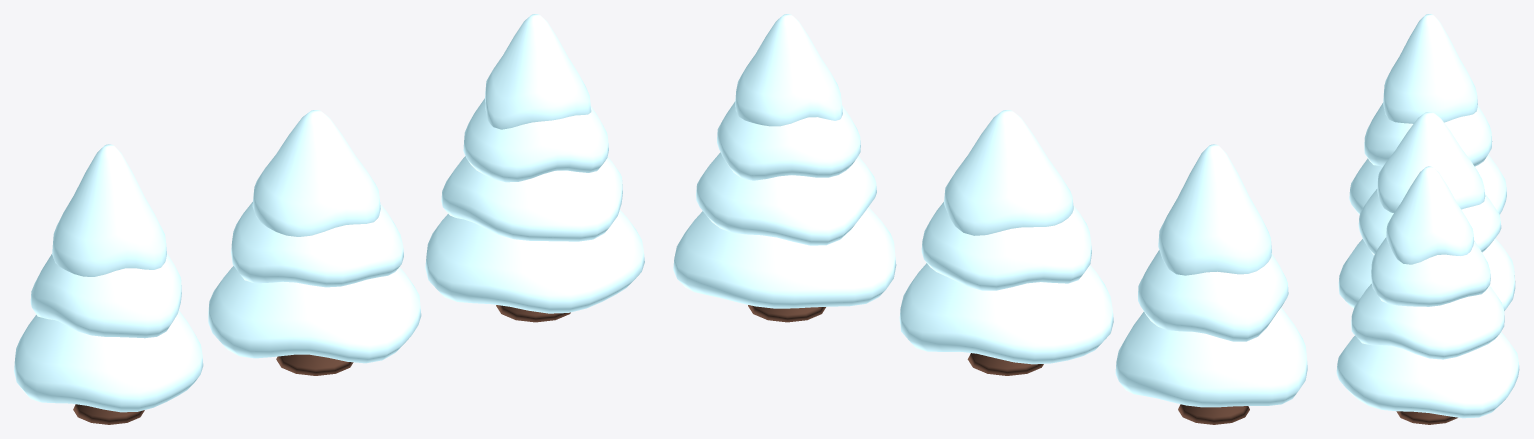
File: trees.glb
3 renders of one model, left to right at view 1: azimuth 30°, elevation 25°; view 2: azimuth 150°, elevation 25°; view 3: azimuth 270°, elevation 25°, orthographic. The views are drawn at different scales.
Visible parts, largest first — view 1: Tree_C, Tree_B, Tree_A; view 2: Tree_C, Tree_B, Tree_A; view 3: Tree_C, Tree_A, Tree_B.
Part boxes in pixels (x1,y1,x2,y2): Tree_C: (425, 14, 644, 322); Tree_B: (208, 110, 421, 375); Tree_A: (14, 144, 203, 424); Tree_C: (673, 14, 896, 322); Tree_B: (899, 110, 1113, 375); Tree_A: (1115, 144, 1307, 424); Tree_C: (1336, 166, 1519, 424); Tree_A: (1349, 14, 1506, 214); Tree_B: (1338, 112, 1515, 310).
Bounding box in the file's own units: 387 × 177 × 121.
